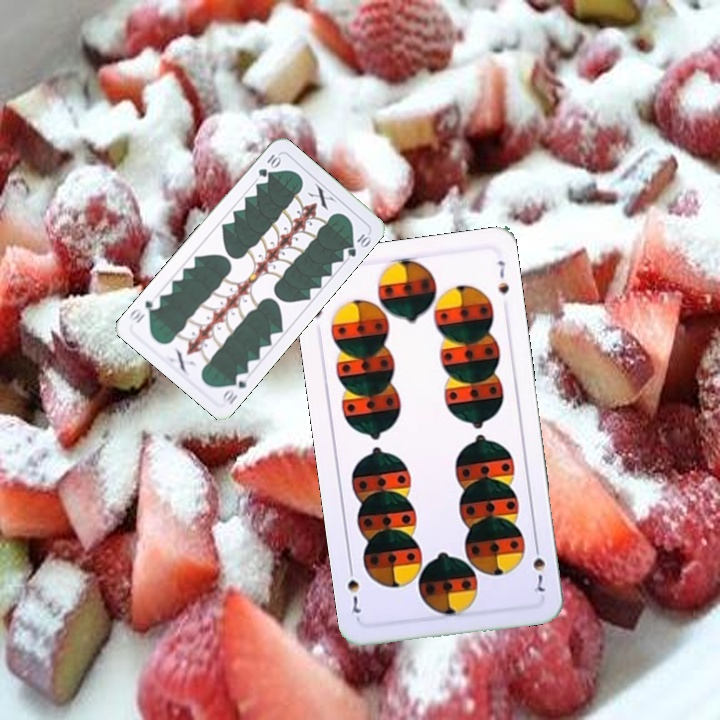G10: (219, 368, 252, 407), (254, 150, 284, 180)
S7: (528, 539, 548, 595)
